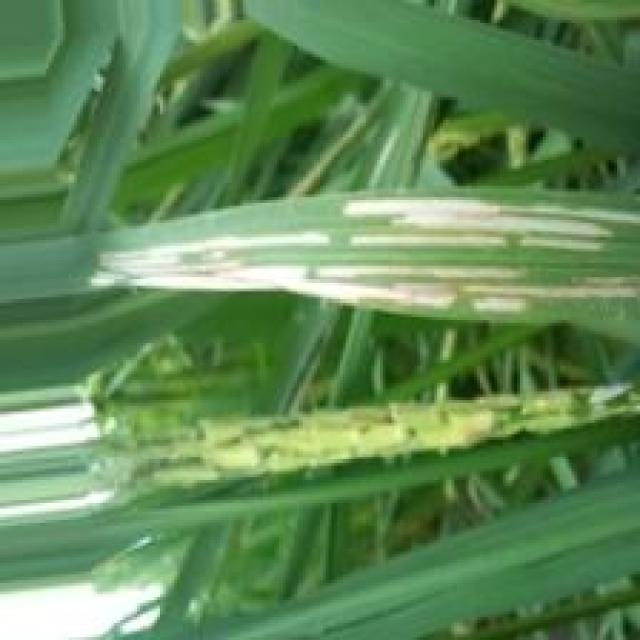Rice_Hispa: (94, 235, 458, 312), (345, 196, 612, 237)
